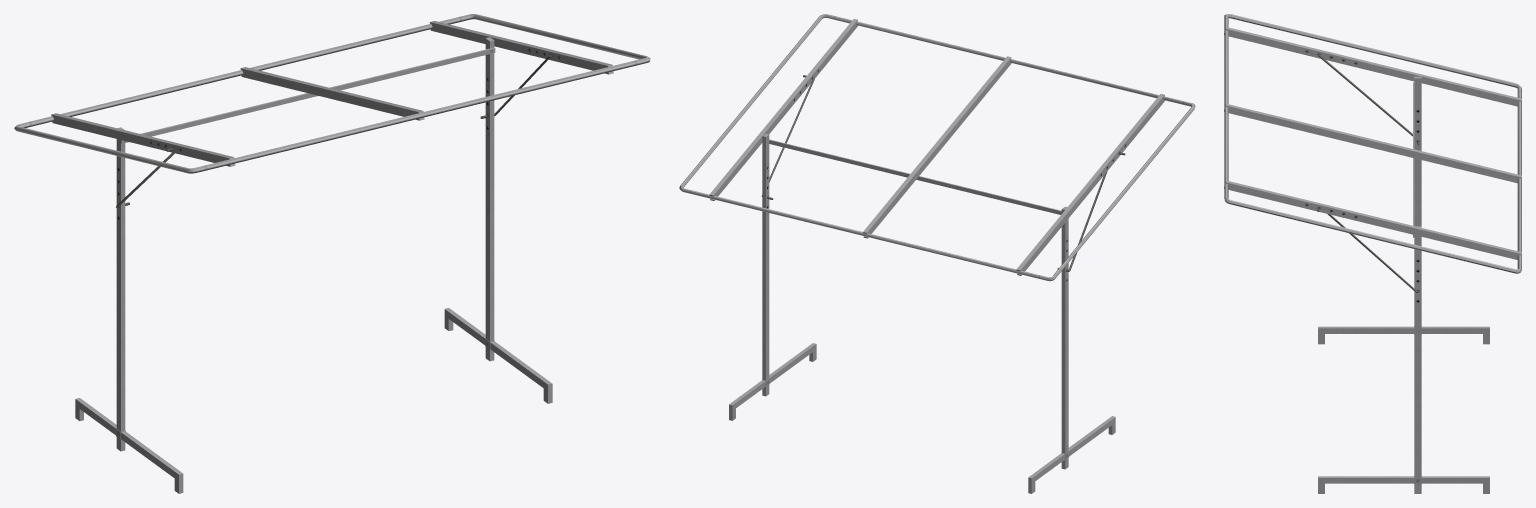
Rendered from jsf_2P_s03_Leg01.fbx.
3 renders of one model, left to right at view 1: azimuth 30°, elevation 25°; view 2: azimuth 150°, elevation 25°; view 3: azimuth 270°, elevation 25°, orthographic. The views are drawn at different scales.
Visible parts, largest first — view 1: jsf_2P_s03_Leg01; view 2: jsf_2P_s03_Leg01; view 3: jsf_2P_s03_Leg01.
Part boxes in pixels (box(x1,y1,x2,y2)): jsf_2P_s03_Leg01: box(14, 14, 650, 493); jsf_2P_s03_Leg01: box(679, 14, 1195, 493); jsf_2P_s03_Leg01: box(1224, 14, 1521, 493).
Bounding box in the file's own units: 313 × 244 × 210.
